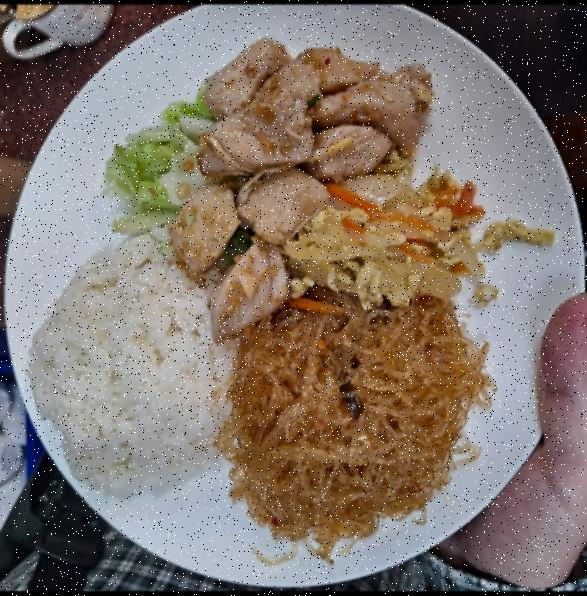plate: (4, 5, 587, 585)
scallion chicken: (174, 36, 435, 339)
side dish: (232, 280, 472, 551), (287, 172, 549, 300), (95, 107, 206, 232)
white rice: (22, 235, 240, 507)
